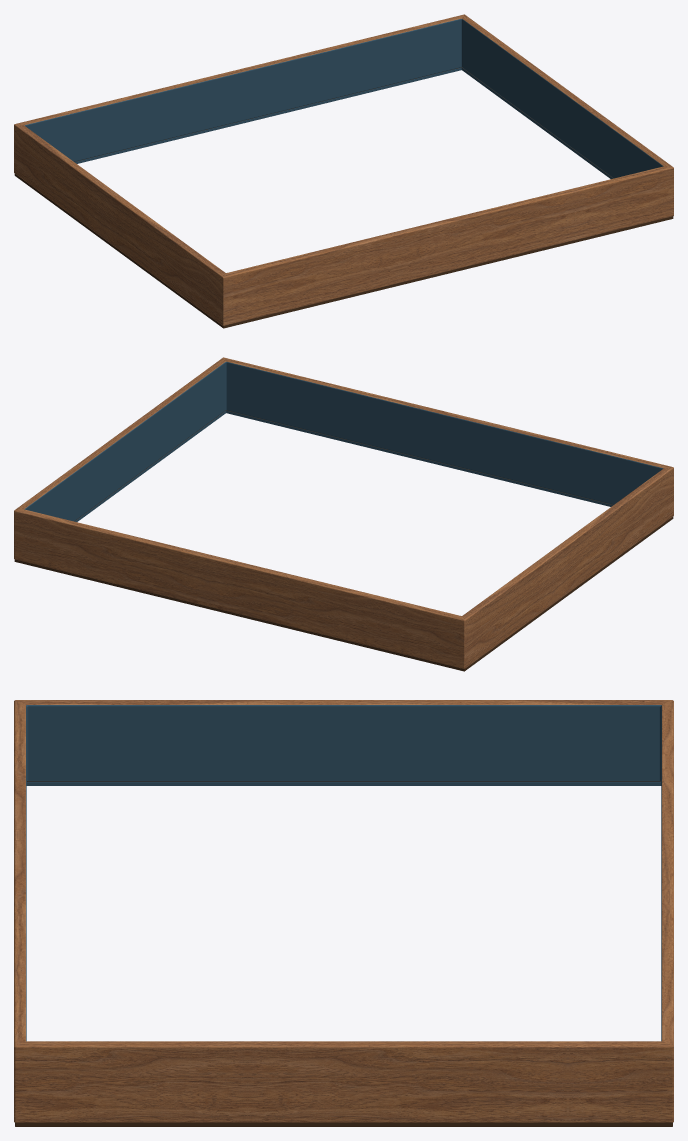
The model's file is tray-frame.glb.
3 renders of one model, top to bottom at view 1: azimuth 30°, elevation 25°; view 2: azimuth 150°, elevation 25°; view 3: azimuth 270°, elevation 25°, orthographic. The views are drawn at different scales.
Visible parts, largest first — view 1: Detailed_solid_wood_frame__744x594_opening; view 2: Detailed_solid_wood_frame__744x594_opening; view 3: Detailed_solid_wood_frame__744x594_opening.
Part boxes in pixels (box(x1,y1,x2,y2)): Detailed_solid_wood_frame__744x594_opening: box(14, 14, 673, 328); Detailed_solid_wood_frame__744x594_opening: box(14, 357, 673, 671); Detailed_solid_wood_frame__744x594_opening: box(14, 700, 673, 1126).
Size of the model in its own units: 0.768 by 0.084 by 0.618.
3 materials, 1 textured.
